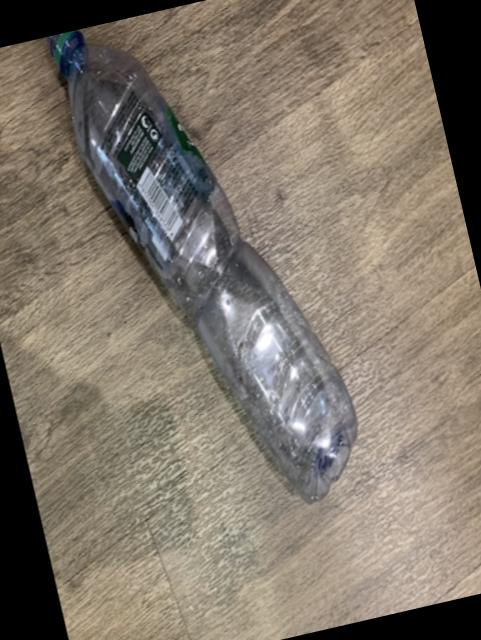plastic: (45, 30, 354, 504)
